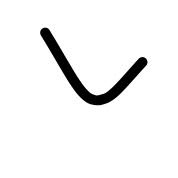t: (90, 50, 175, 119)
